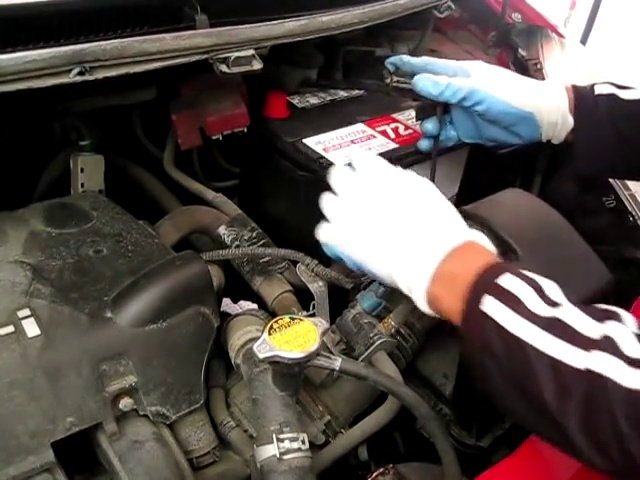battery: (251, 80, 454, 171)
pos_disconnected: (191, 85, 301, 151)
